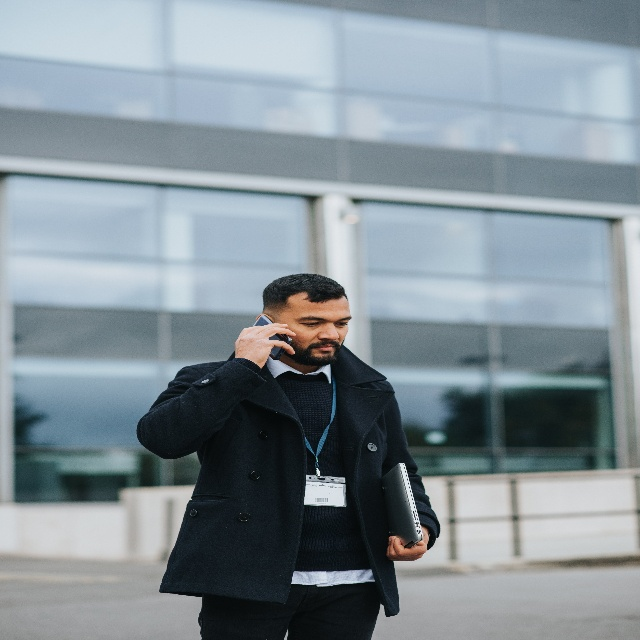Sin_guantes: (233, 325, 297, 372), (387, 532, 429, 564)
